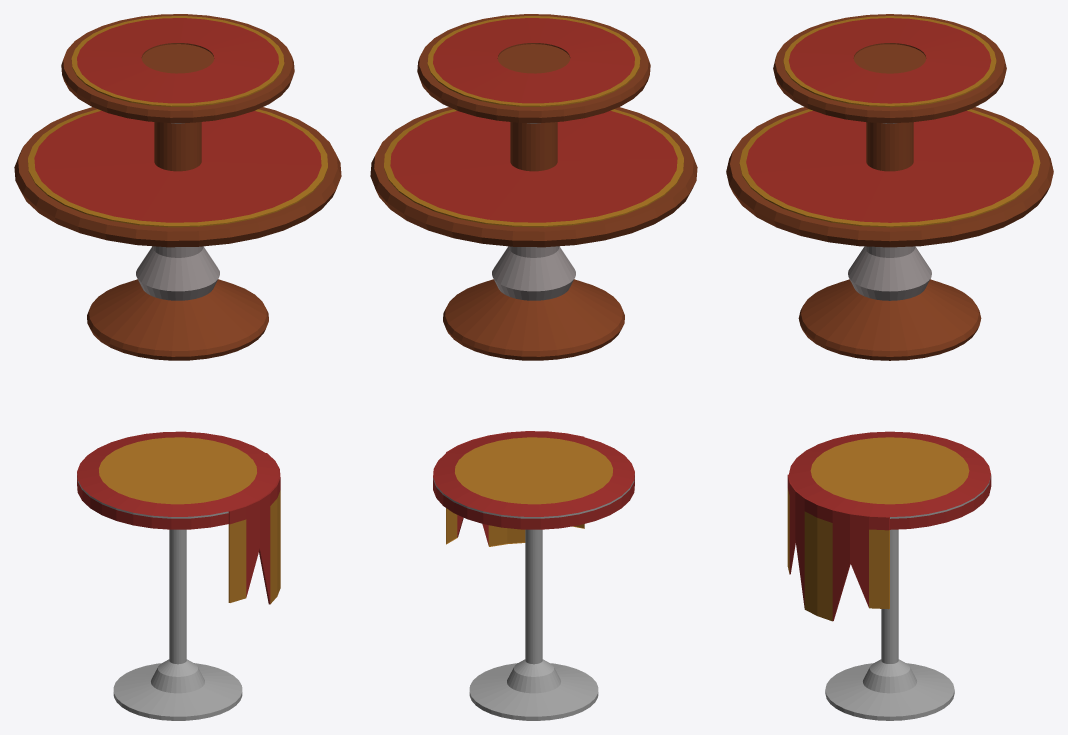
File: elevatorTable.fbx
The picture shows the model from 3 angles, left to right: view 1: azimuth 30°, elevation 25°; view 2: azimuth 150°, elevation 25°; view 3: azimuth 270°, elevation 25°; orthographic projection.
Parts seen in each view (by area): view 1: tableOne, tableTwo; view 2: tableOne, tableTwo; view 3: tableOne, tableTwo.
Part boxes in pixels (x1,y1,x2,y2): tableOne: (14, 14, 341, 360); tableTwo: (77, 431, 280, 720); tableOne: (370, 14, 697, 360); tableTwo: (433, 431, 634, 720); tableOne: (726, 14, 1053, 360); tableTwo: (787, 431, 991, 720).
Bounding box in the file's own units: 507 × 1085 × 507.
